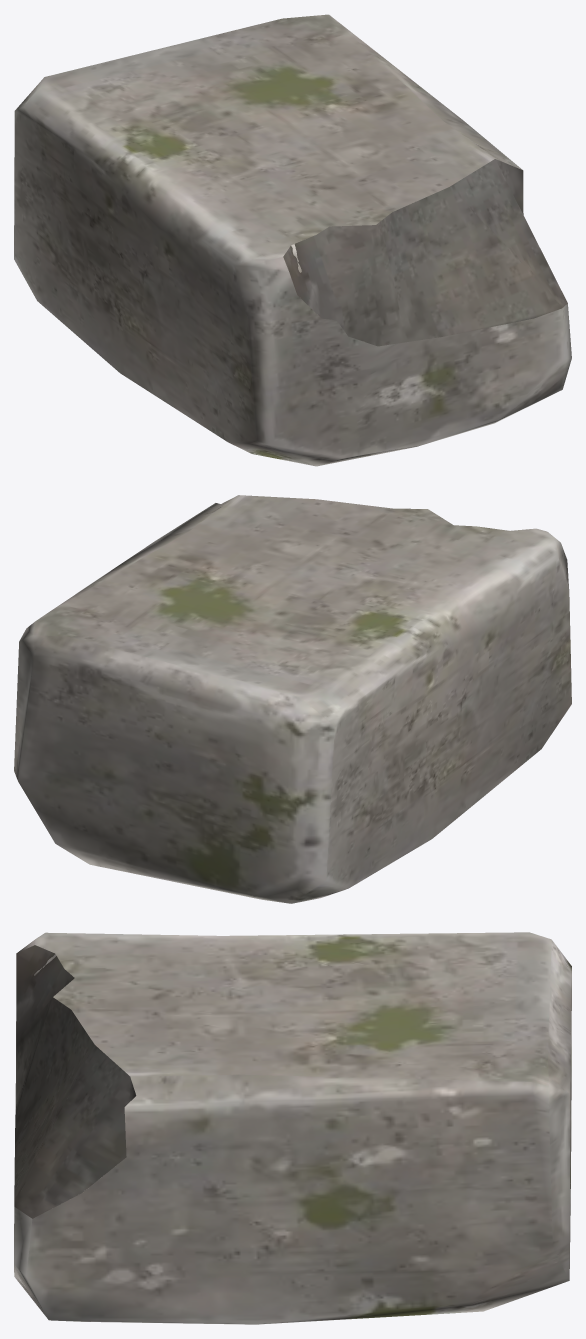
3 renders of one model, top to bottom at view 1: azimuth 30°, elevation 25°; view 2: azimuth 150°, elevation 25°; view 3: azimuth 270°, elevation 25°, orthographic. The views are drawn at different scales.
Parts seen in each view (by area): view 1: SM_Castle_Floor_Stone_01_Dmg_v1_LOD0; view 2: SM_Castle_Floor_Stone_01_Dmg_v1_LOD0; view 3: SM_Castle_Floor_Stone_01_Dmg_v1_LOD0.
Part boxes in pixels (box(x1,y1,x2,y2)): SM_Castle_Floor_Stone_01_Dmg_v1_LOD0: box(14, 14, 571, 466); SM_Castle_Floor_Stone_01_Dmg_v1_LOD0: box(14, 495, 571, 903); SM_Castle_Floor_Stone_01_Dmg_v1_LOD0: box(14, 932, 571, 1324).
Size of the model in its own units: 0.5329 by 0.3581 by 0.7369.
Materials: 2 (2 with a texture image).
